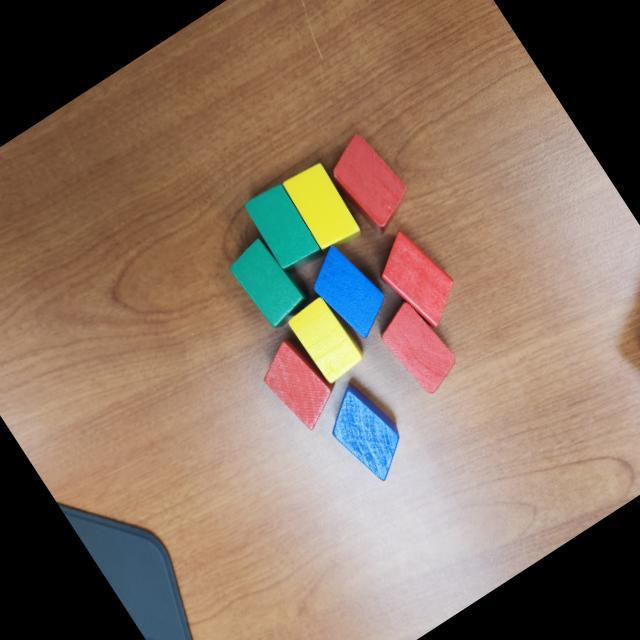blue: (311, 370, 420, 490), (298, 234, 399, 348)
green: (221, 231, 312, 334), (240, 179, 322, 271)
red: (364, 219, 471, 338), (317, 124, 423, 243), (250, 327, 350, 438), (369, 292, 467, 401)
yellow: (284, 290, 371, 386), (280, 158, 364, 254)
